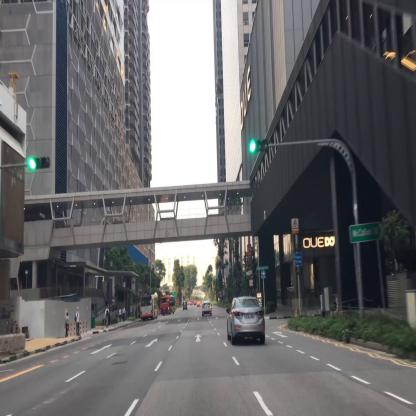green_traffic_light: (28, 157, 50, 168), (249, 140, 268, 148)
